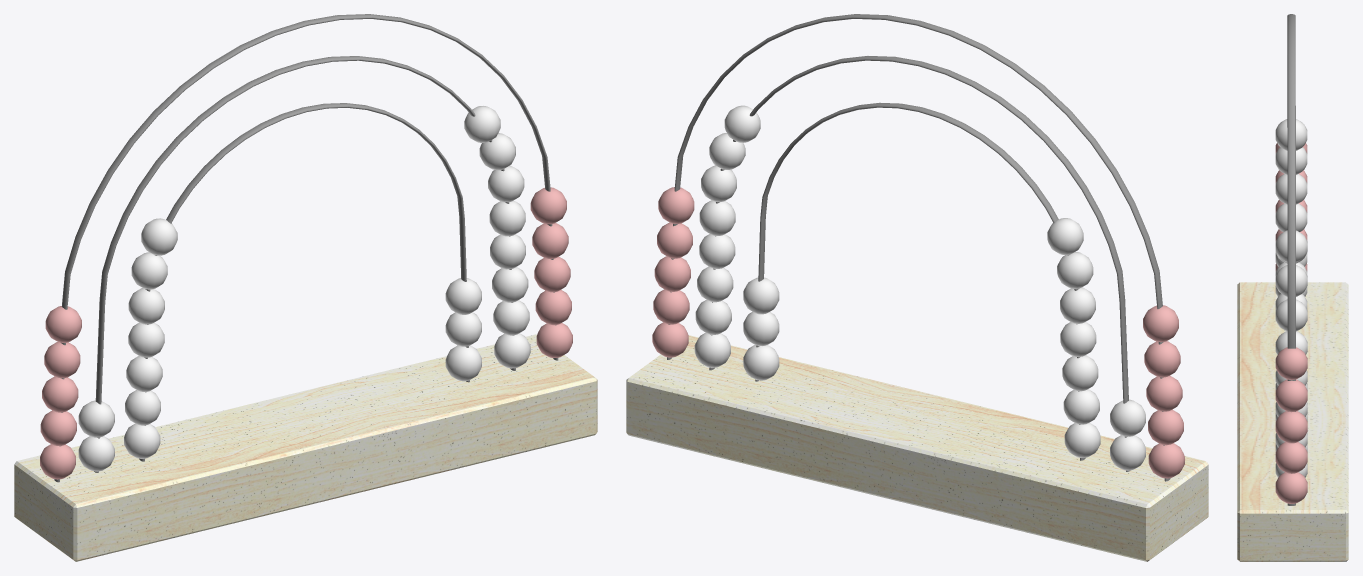
Rendered from Kid_toy_08.glb.
The picture shows the model from 3 angles, left to right: view 1: azimuth 30°, elevation 25°; view 2: azimuth 150°, elevation 25°; view 3: azimuth 270°, elevation 25°; orthographic projection. The views are drawn at different scales.
Parts seen in each view (by area): view 1: BP_Kid_toy_08; view 2: BP_Kid_toy_08; view 3: BP_Kid_toy_08.
Part boxes in pixels (x1,y1,x2,y2): BP_Kid_toy_08: [14, 14, 597, 561]; BP_Kid_toy_08: [626, 14, 1208, 561]; BP_Kid_toy_08: [1237, 14, 1348, 561].
Size of the model in its own units: 0.2995 by 0.247 by 0.0609.
4 materials, 1 textured.
